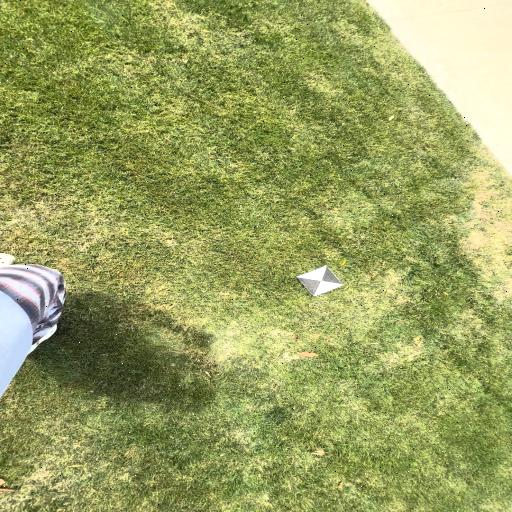target: (296, 265, 344, 296)
